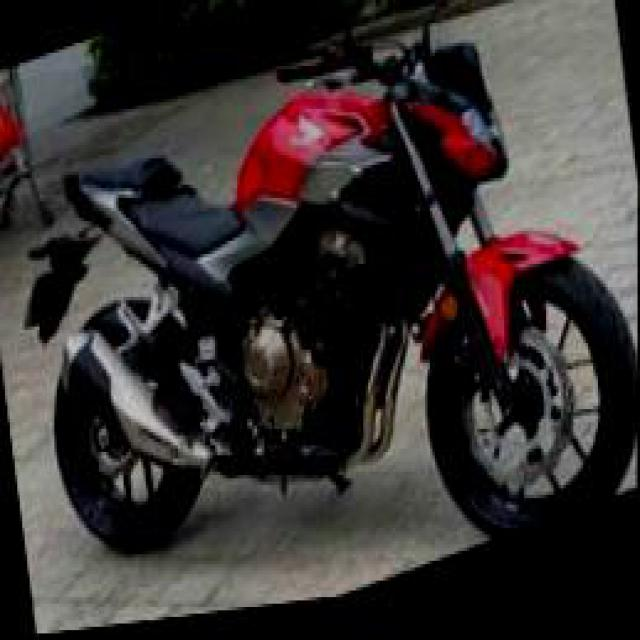CB500F: (2, 0, 638, 637)
